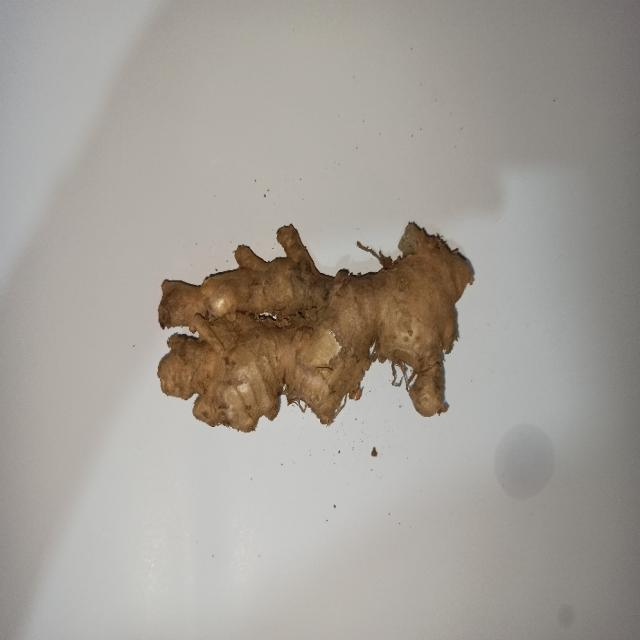ginger: (158, 221, 470, 435)
